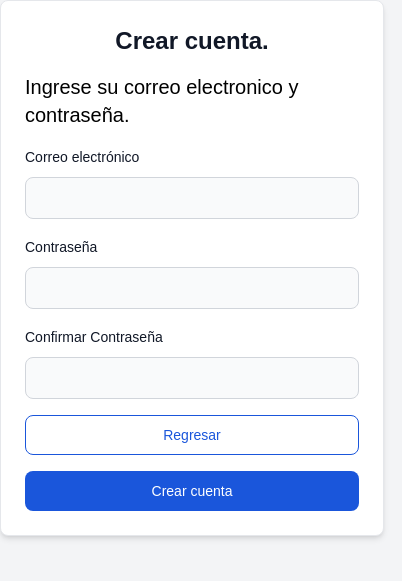
UserRegistration › shows validation error for invalid email format
Type "notanemail@a" into the field labelled "Correo electrónico" at (192, 198), box top-left (25, 177), bottom-right (359, 219)
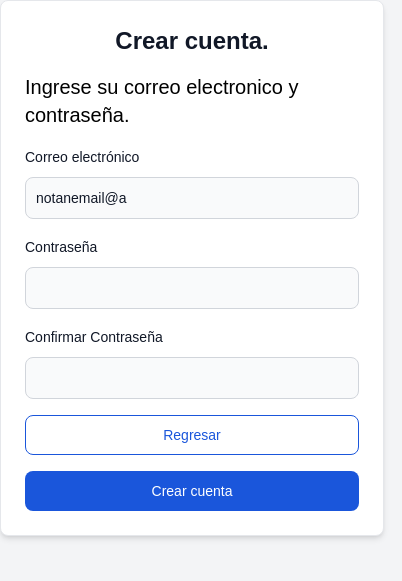
Type "ValidPassword123!@#" into the password field with test id "password" at (192, 288), box top-left (25, 267), bottom-right (359, 309)
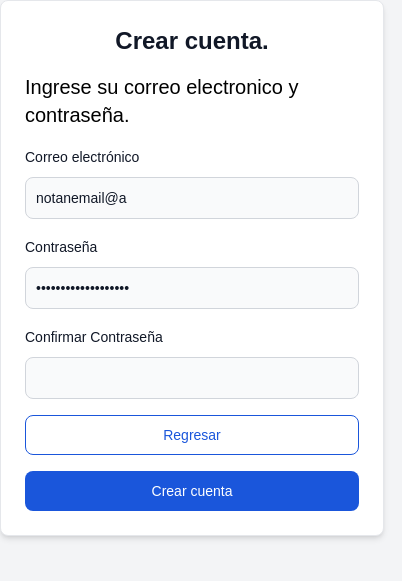
Type "ValidPassword123!@#" into the password field with test id "confirmPassword" at (192, 378), box top-left (25, 357), bottom-right (359, 399)
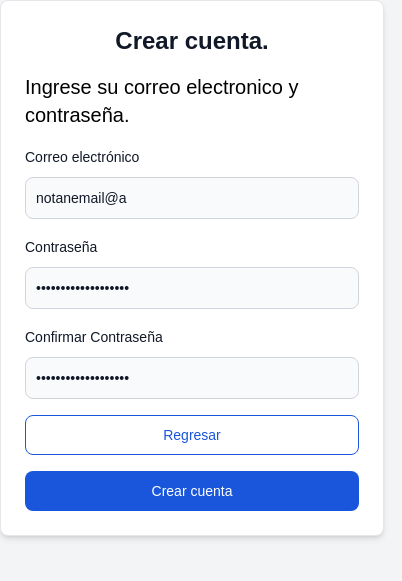
Click the button "Crear cuenta" at (192, 491), box top-left (25, 471), bottom-right (359, 511)
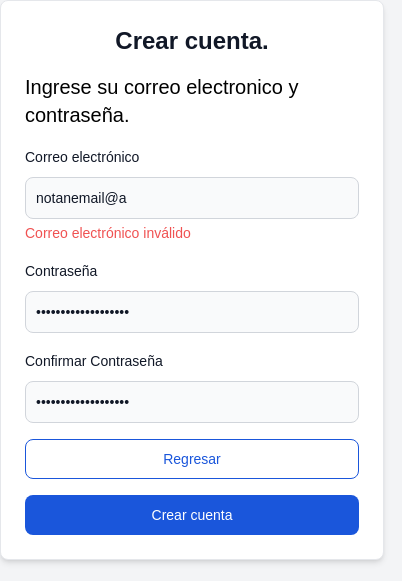
Expected: the text "Correo electrónico inválido" is shown, top-left (25, 225), bottom-right (191, 241)
